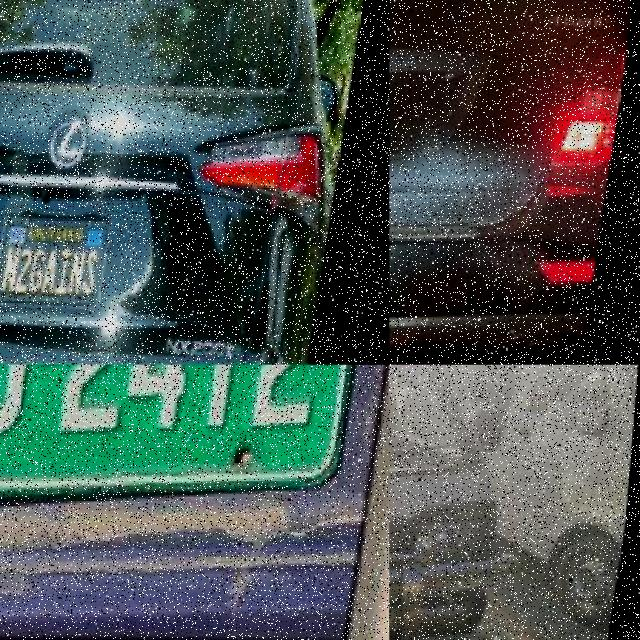licenseplate: (0, 364, 372, 532), (0, 206, 120, 319)
